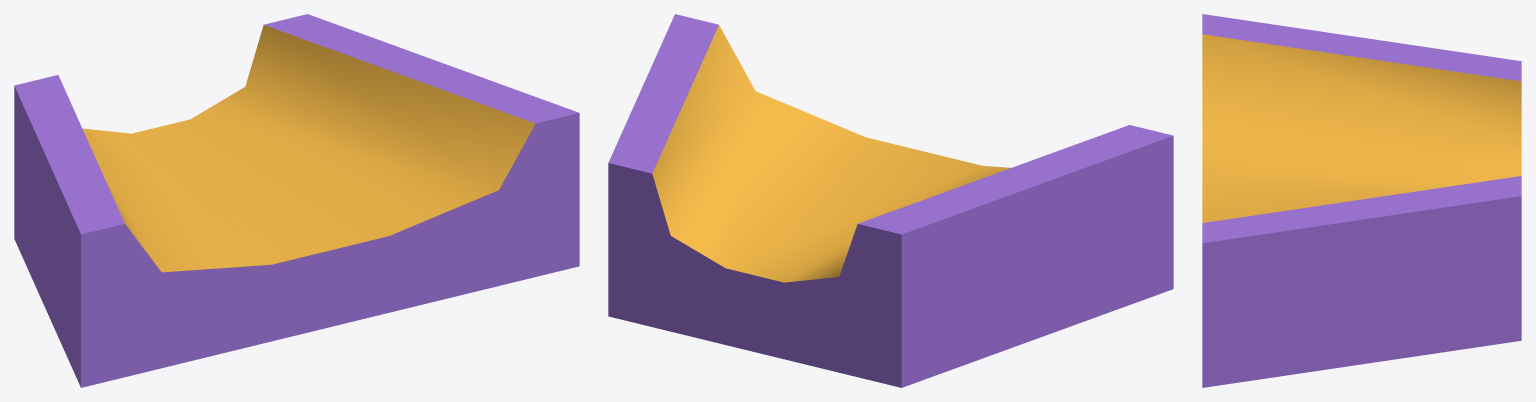
Rendered from kenney-marble-funnel.glb.
3 renders of one model, left to right at view 1: azimuth 30°, elevation 25°; view 2: azimuth 150°, elevation 25°; view 3: azimuth 270°, elevation 25°, orthographic. The views are drawn at different scales.
Visible parts, largest first — view 1: funnel; view 2: funnel; view 3: funnel.
Boxes of the visible parts, x1,y1,x2,y2 form: funnel: [14, 14, 579, 387]; funnel: [608, 14, 1173, 387]; funnel: [1202, 14, 1521, 387].
Bounding box in the file's own units: 1.7 × 0.5 × 1.
1 material, 1 textured.
